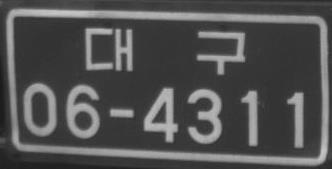0: (23, 82, 57, 137)
1: (282, 92, 315, 149), (235, 89, 267, 147)
3: (186, 88, 223, 144)
4: (142, 85, 179, 142)
6: (64, 82, 101, 139)
대구_D: (84, 26, 246, 75)
